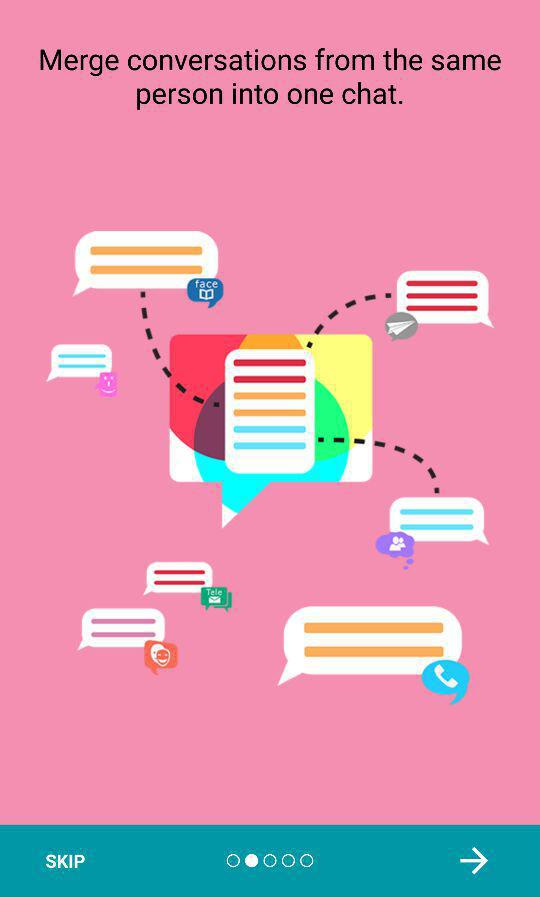Icon: (460, 846, 489, 875)
Image: (46, 231, 495, 705)
PageIndicator: (226, 853, 315, 869)
Text: (41, 48, 502, 112), (46, 854, 86, 869)
